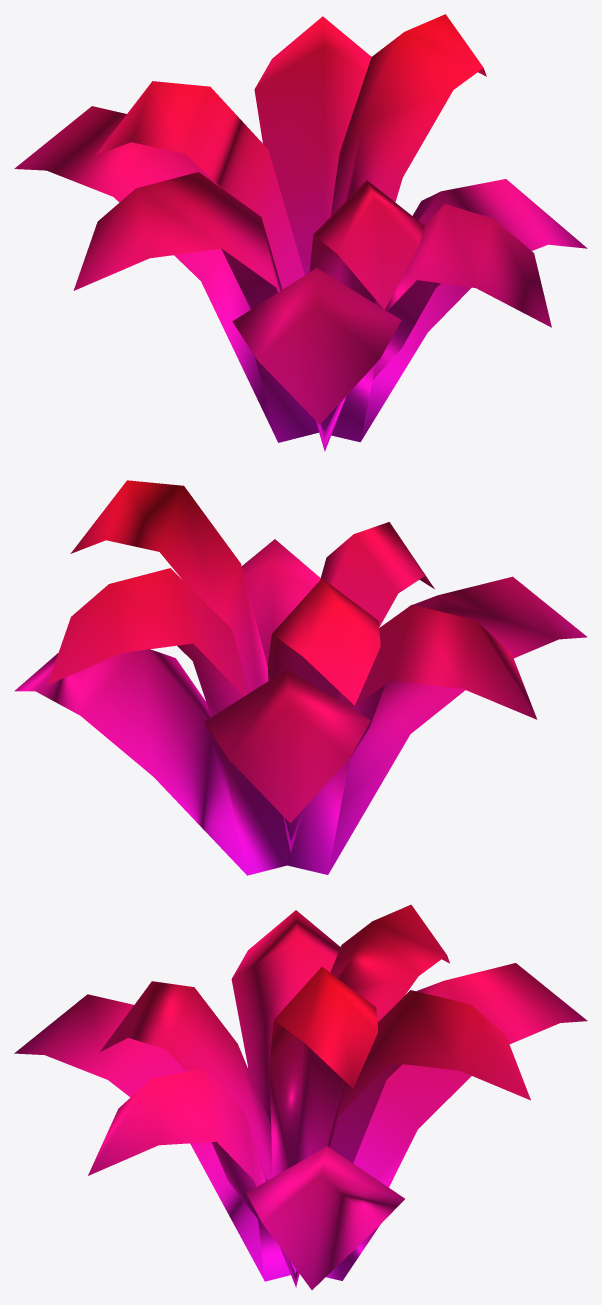
File: SM_Plant_Fern_02.fbx
3 renders of one model, top to bottom at view 1: azimuth 30°, elevation 25°; view 2: azimuth 150°, elevation 25°; view 3: azimuth 270°, elevation 25°, orthographic. The views are drawn at different scales.
Visible parts, largest first — view 1: SM_Plant_Fern_02; view 2: SM_Plant_Fern_02; view 3: SM_Plant_Fern_02.
Boxes of the visible parts, x1,y1,x2,y2 form: SM_Plant_Fern_02: [14, 14, 587, 451]; SM_Plant_Fern_02: [14, 480, 587, 875]; SM_Plant_Fern_02: [14, 904, 587, 1289].
Size of the model in its own units: 153 by 103 by 154.
